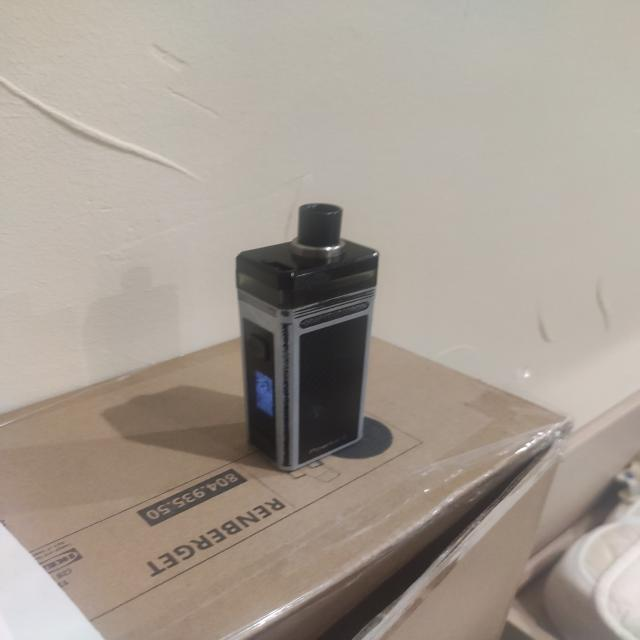cigaret: (236, 198, 382, 476)
